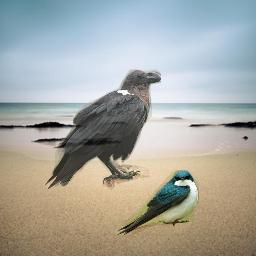Crow: (43, 69, 161, 190)
Swallow: (115, 170, 199, 236)
